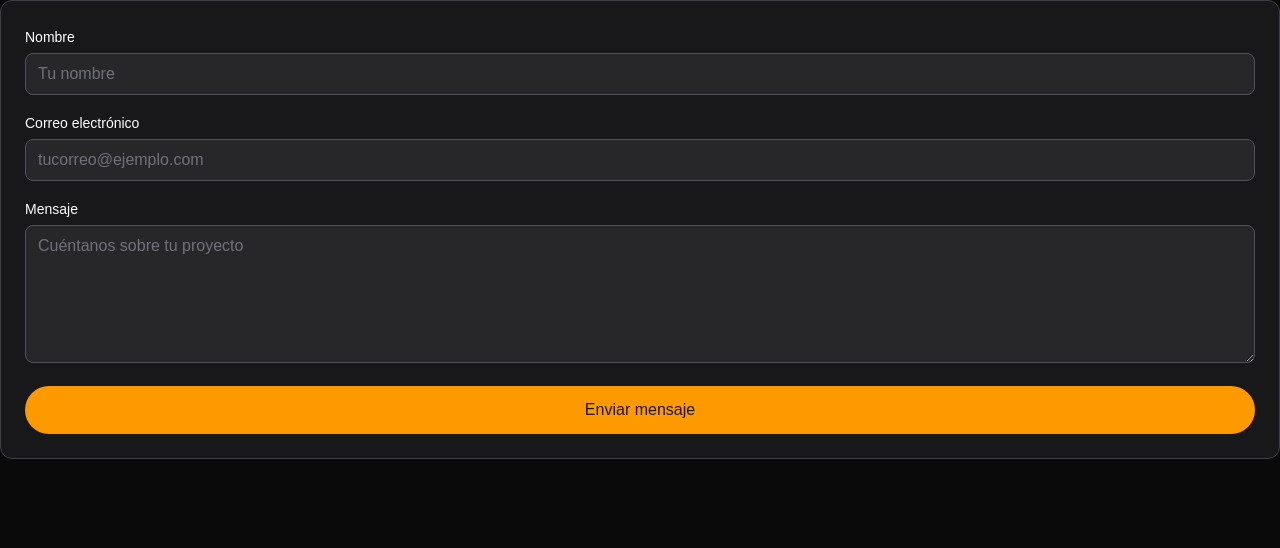
ContactForm (US11) › muestra errores al enviar el formulario vacío
Step 1. Click the button "Enviar mensaje" → (640, 410), box [25,386,1255,434]
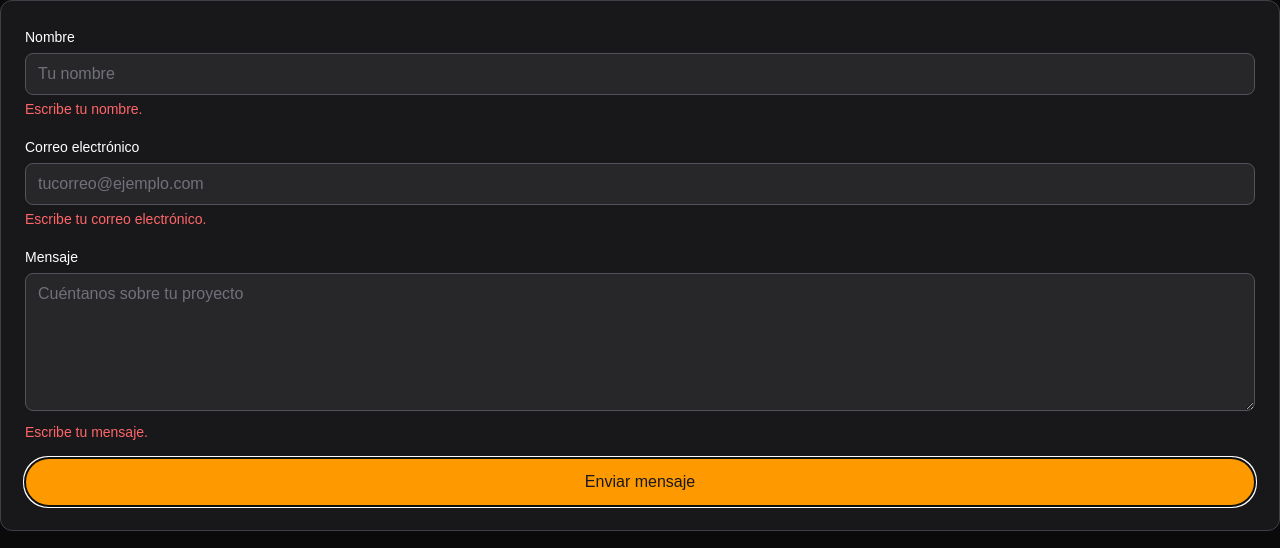
Now the number of messages is 3, box [25,101,142,117]; [25,211,206,227]; [25,424,148,440]
Now the text "Escribe tu nombre." is shown, box [25,101,142,117]
Now the text "Escribe tu correo electrónico." is shown, box [25,211,206,227]
